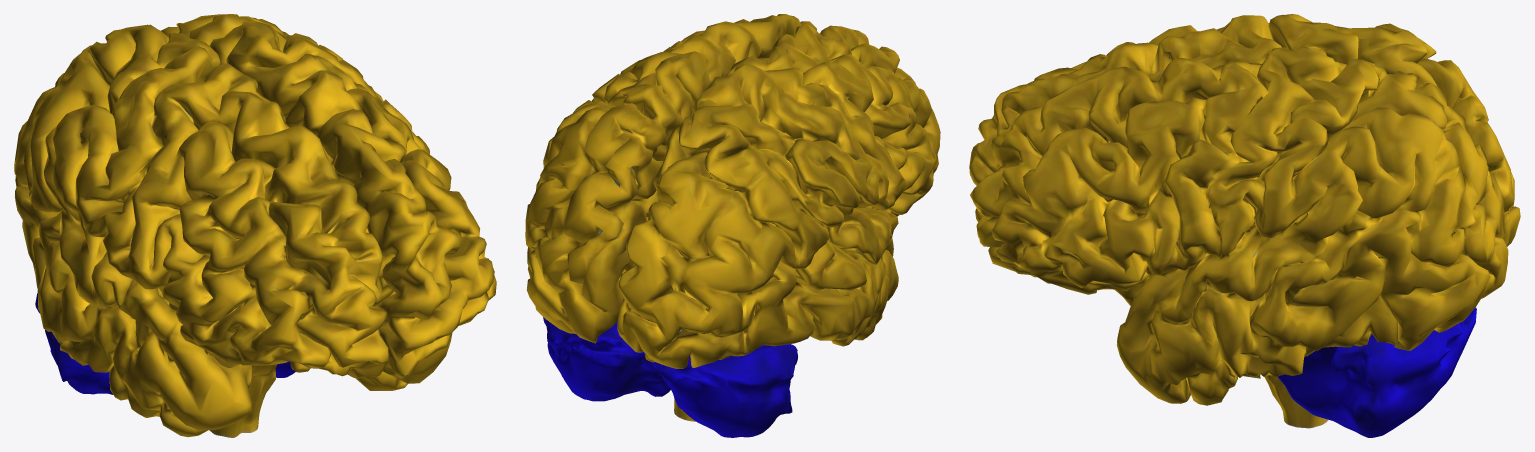
File: brain.glb
3 renders of one model, left to right at view 1: azimuth 30°, elevation 25°; view 2: azimuth 150°, elevation 25°; view 3: azimuth 270°, elevation 25°, orthographic. The views are drawn at different scales.
Visible parts, largest first — view 1: Right_cerebral_cortex_and_pia_mater, Left_cerebral_cortex_and_pia_mater, Right_cerebellum_and_pia_mater, Medulla; view 2: Right_cerebral_cortex_and_pia_mater, Left_cerebral_cortex_and_pia_mater, Right_cerebellum_and_pia_mater, Left_cerebellum_and_pia_mater; view 3: Left_cerebral_cortex_and_pia_mater, Right_cerebral_cortex_and_pia_mater, Left_cerebellum_and_pia_mater, Medulla.
Part boxes in pixels (x1,y1,x2,y2): Right_cerebral_cortex_and_pia_mater: (14,24,388,437); Left_cerebral_cortex_and_pia_mater: (161,14,496,390); Right_cerebellum_and_pia_mater: (35,293,113,394); Medulla: (210,368,276,437); Right_cerebral_cortex_and_pia_mater: (617,23,940,368); Left_cerebral_cortex_and_pia_mater: (525,14,816,343); Right_cerebellum_and_pia_mater: (658,344,797,437); Left_cerebellum_and_pia_mater: (543,317,670,401); Left_cerebral_cortex_and_pia_mater: (970,46,1508,405); Right_cerebral_cortex_and_pia_mater: (969,14,1520,246); Left_cerebellum_and_pia_mater: (1277,307,1476,437); Medulla: (1264,375,1328,428).
Size of the model in its own units: 0.1202 by 0.1297 by 0.1703.
Materials: 45 (45 with a texture image).
